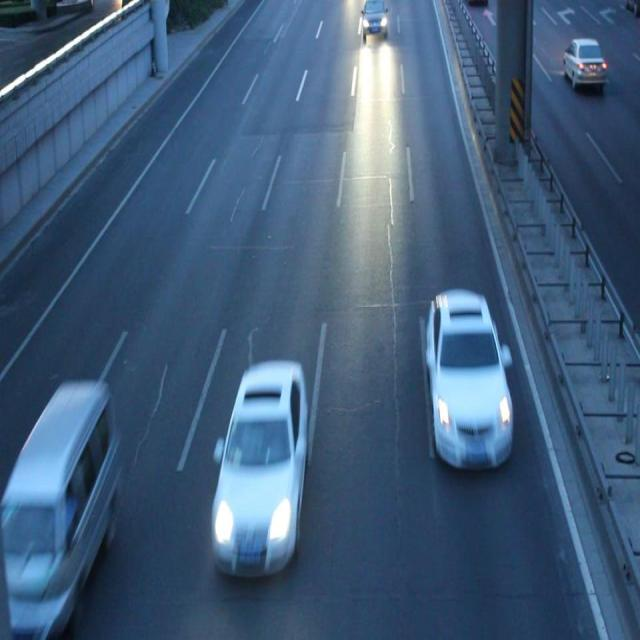car: (0, 381, 117, 640), (210, 360, 308, 577), (422, 288, 514, 466), (361, 1, 387, 40)
